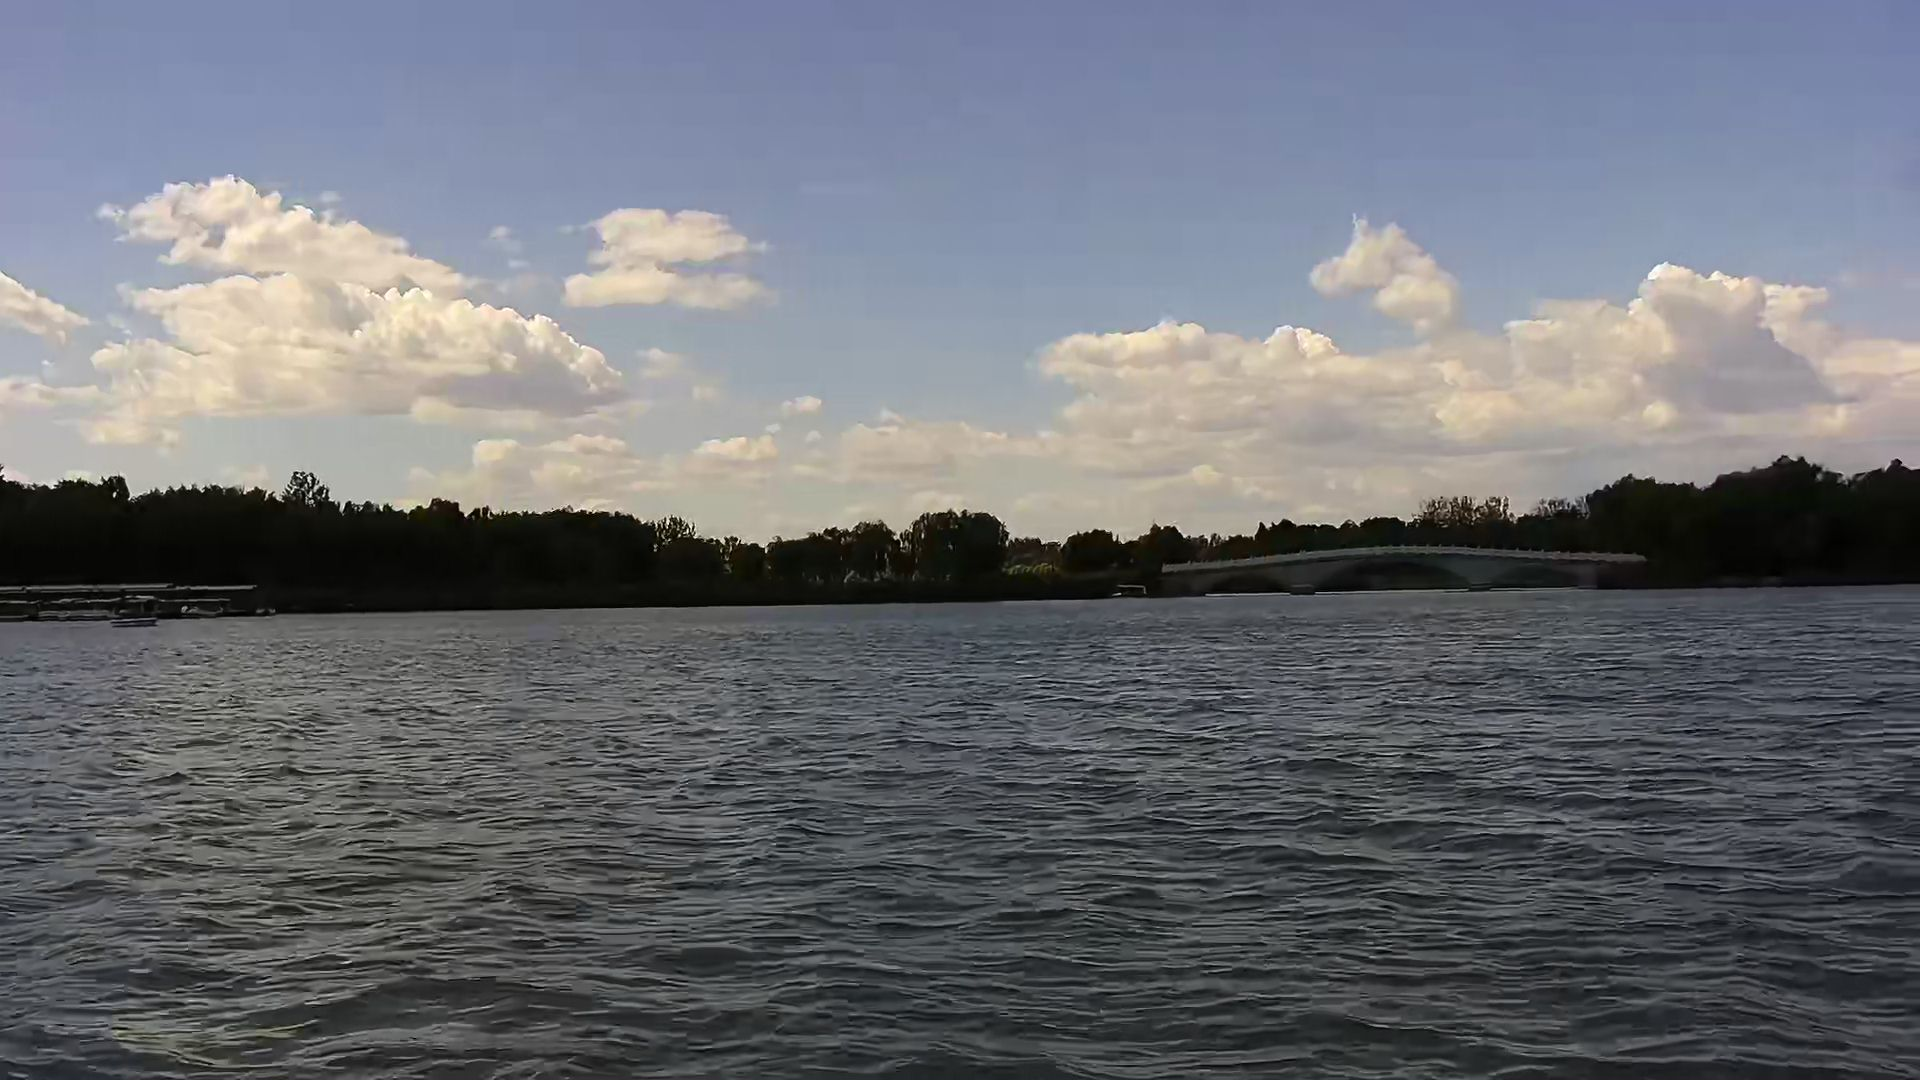boat: (112, 593, 161, 630)
bridge: (1141, 539, 1650, 593)
harbor: (1, 572, 272, 622)
